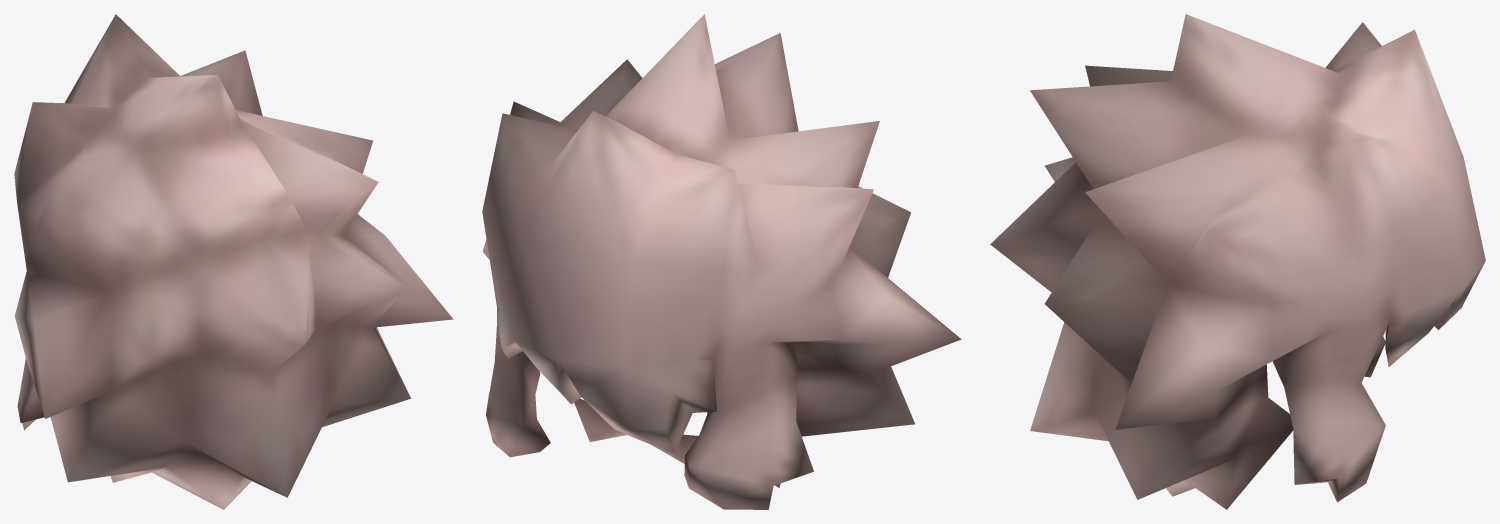
File: mosolyWig.glb
3 renders of one model, left to right at view 1: azimuth 30°, elevation 25°; view 2: azimuth 150°, elevation 25°; view 3: azimuth 270°, elevation 25°, orthographic. The views are drawn at different scales.
Parts seen in each view (by area): view 1: mosolyWig; view 2: mosolyWig; view 3: mosolyWig.
Boxes of the visible parts, x1,y1,x2,y2 form: mosolyWig: [14, 14, 453, 509]; mosolyWig: [482, 14, 961, 509]; mosolyWig: [990, 14, 1485, 509].
Size of the model in its own units: 0.43 by 0.4334 by 0.4033.
1 material, 1 textured.
